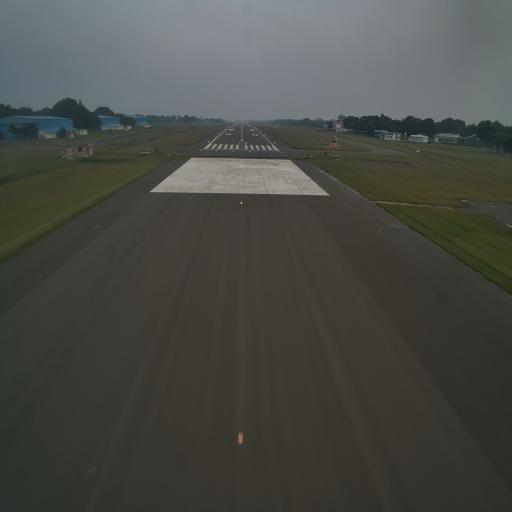off: (376, 225, 384, 237), (93, 221, 101, 232)
on: (236, 427, 246, 450), (239, 196, 245, 209)
